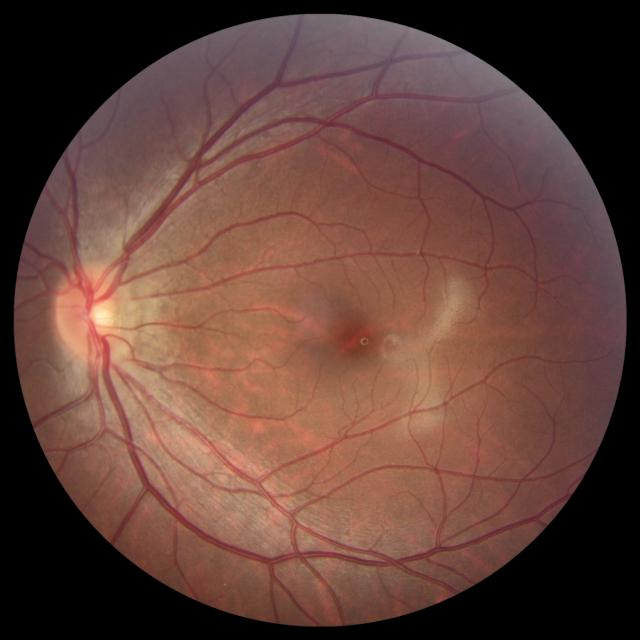OC: (84, 298, 115, 329)
OD: (54, 264, 130, 363)
